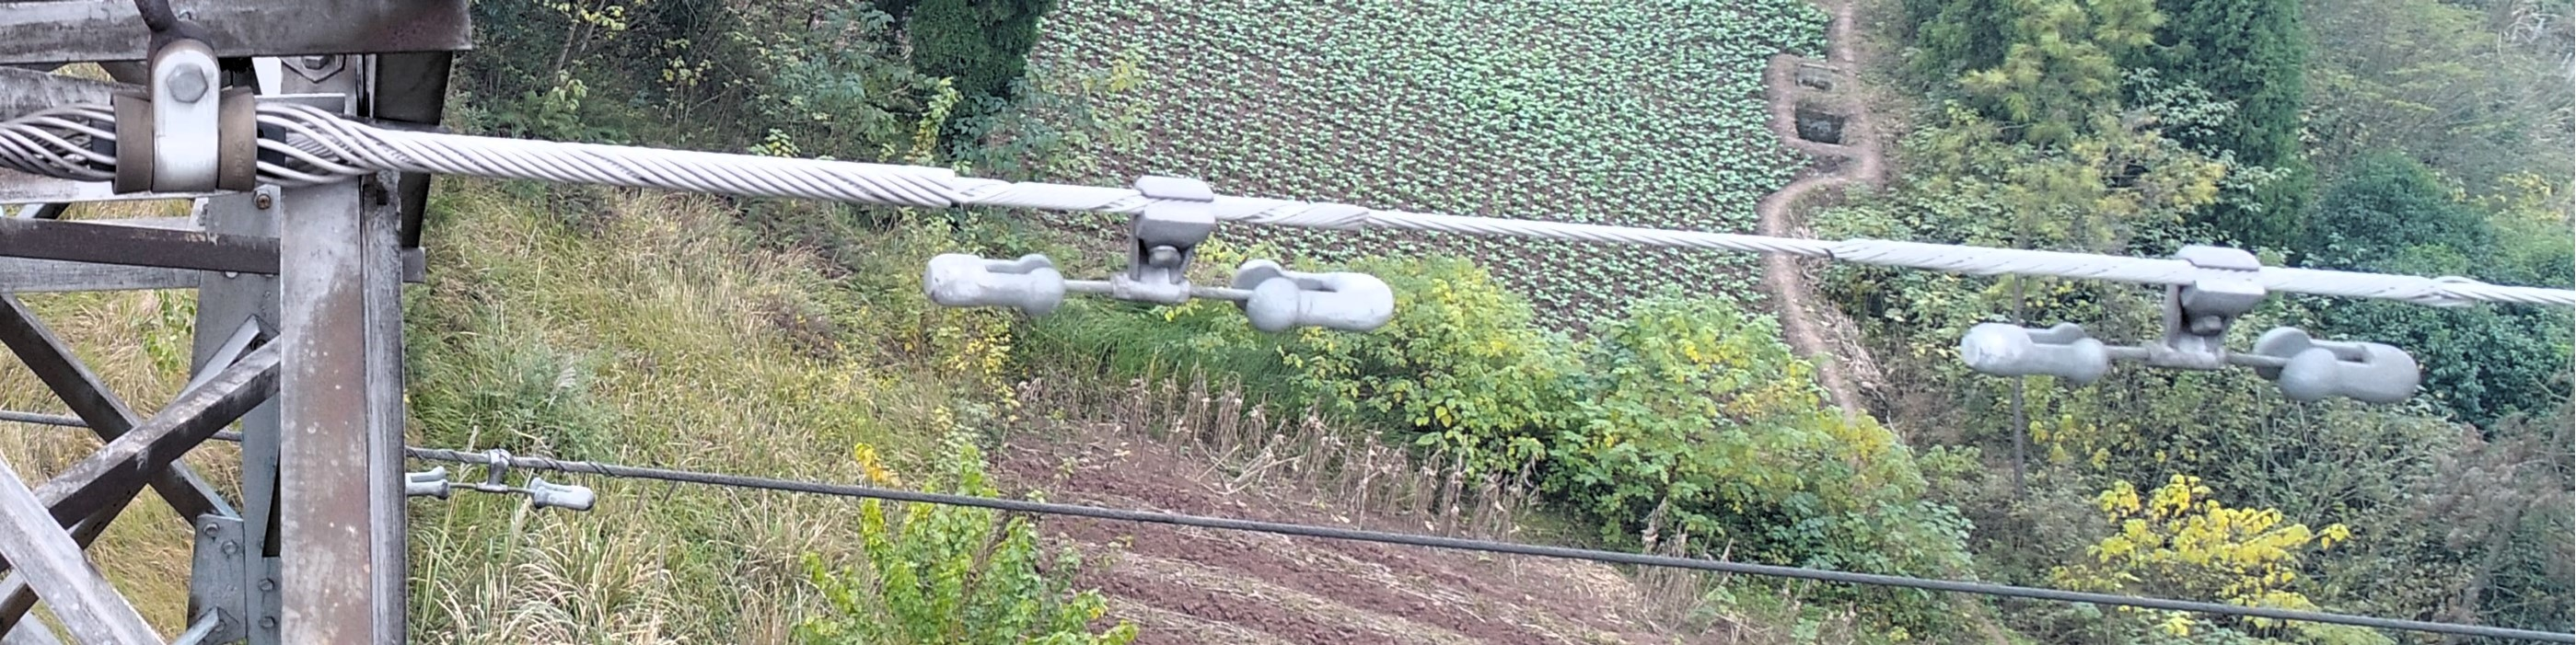Shockproof hammer: (918, 148, 1408, 346), (1934, 222, 2433, 415)
